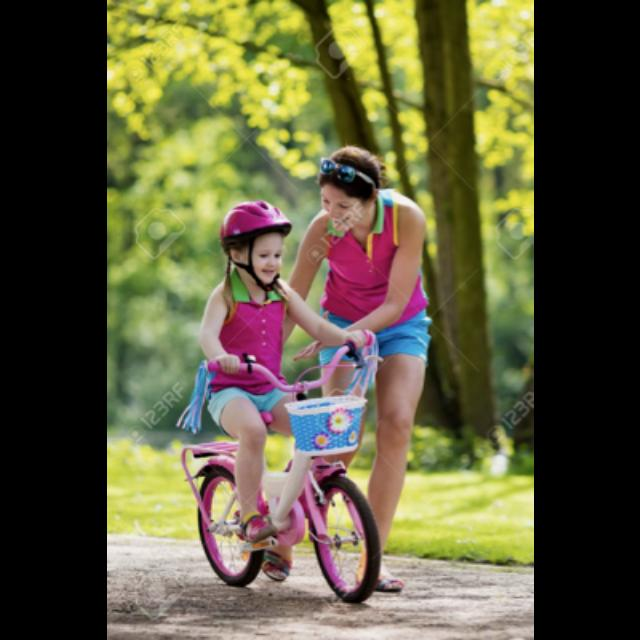With Helmet: (204, 192, 300, 292)
